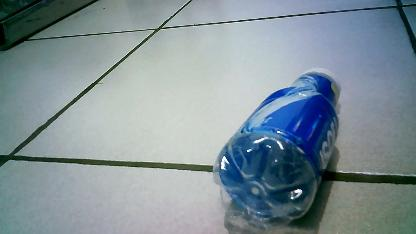Plastic Bottle: (211, 64, 345, 228)
